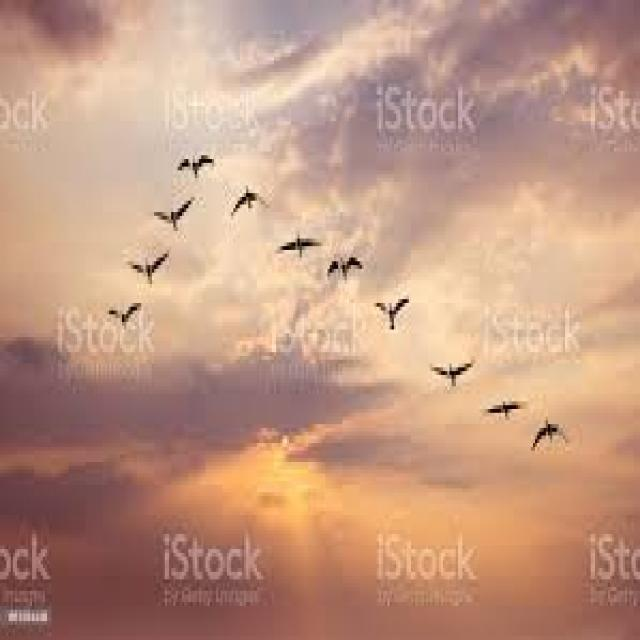bird: (412, 320, 489, 396), (275, 187, 331, 286), (316, 223, 372, 314), (229, 166, 278, 232), (526, 407, 578, 468), (367, 274, 414, 336), (178, 119, 222, 184), (127, 244, 183, 294), (482, 380, 524, 438), (102, 294, 142, 332), (157, 200, 196, 238)
